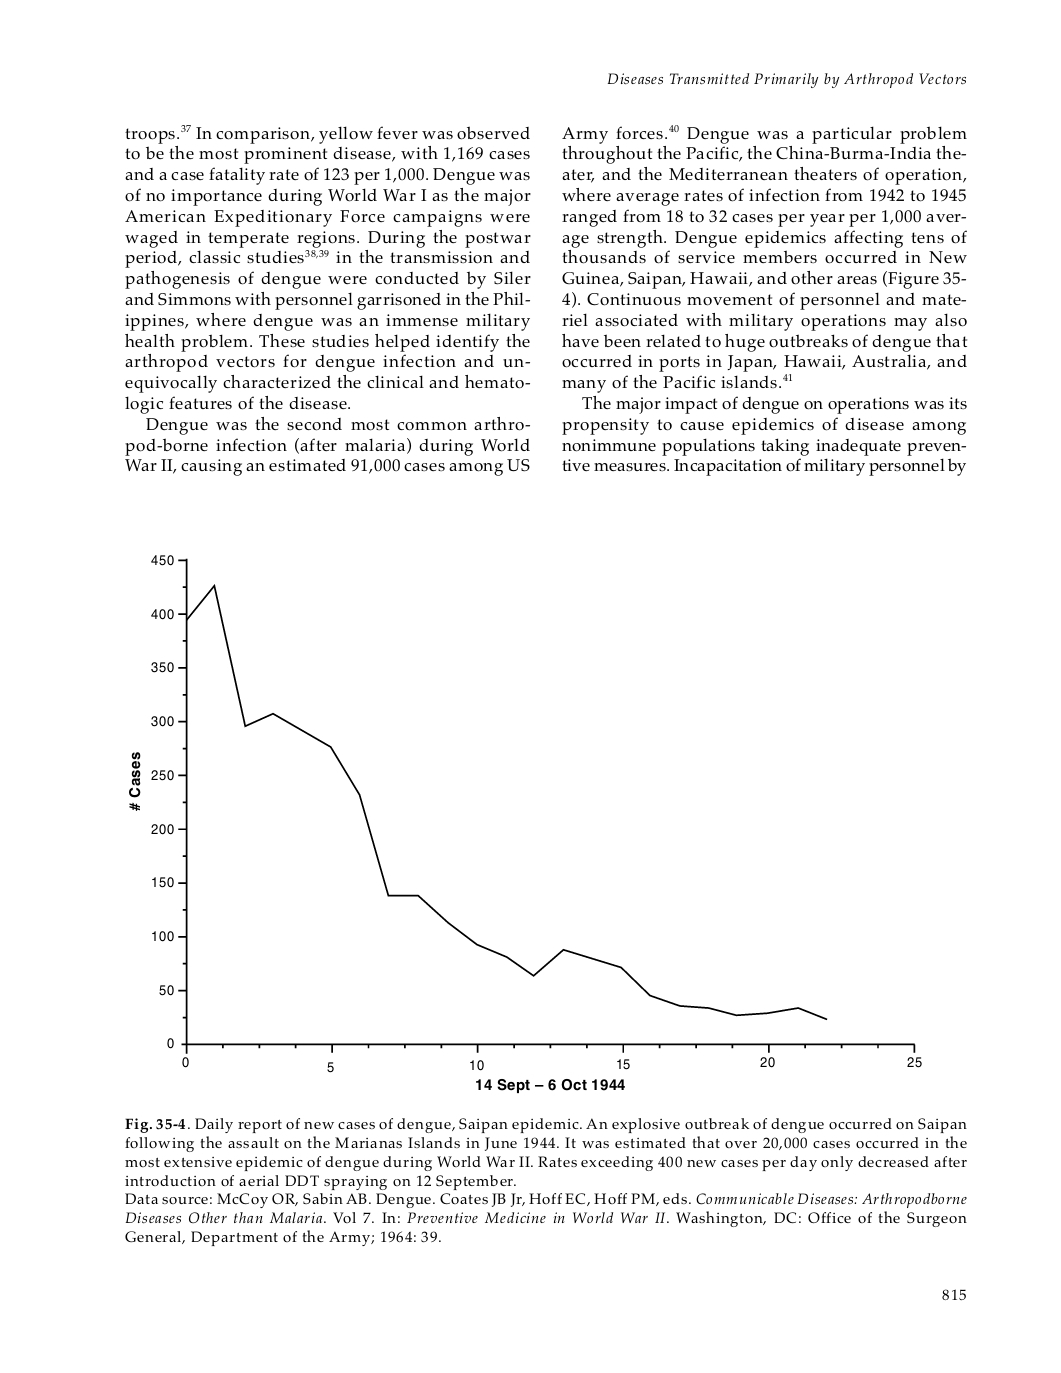figure: (129, 555, 921, 1093)
